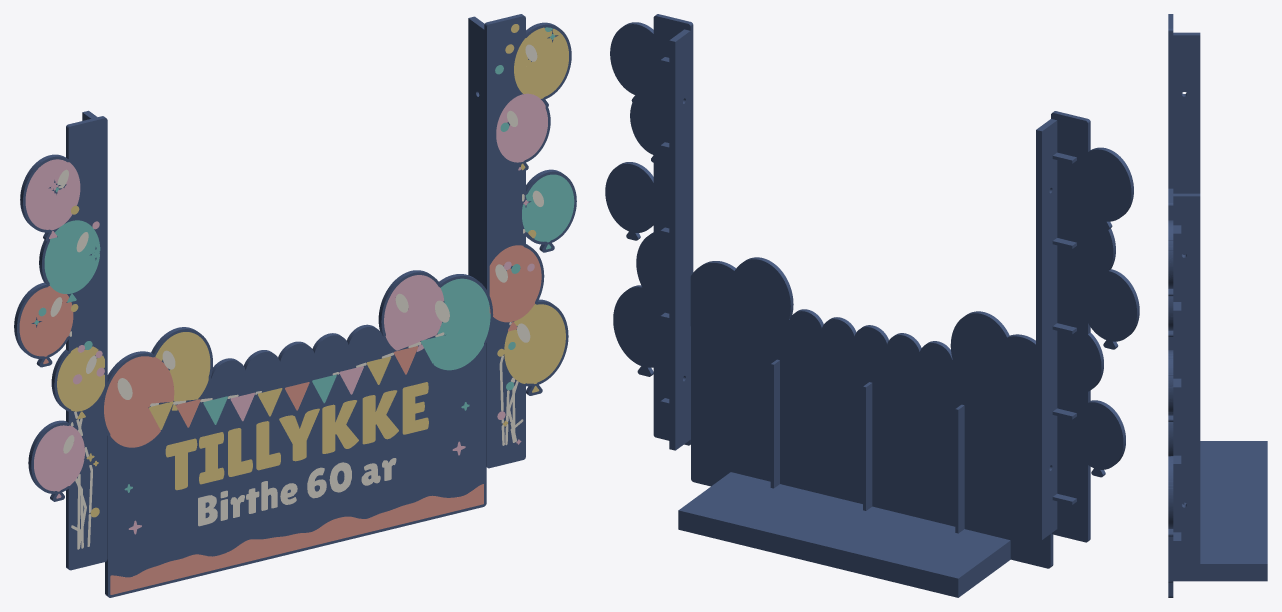
File: parts.glb
The picture shows the model from 3 angles, left to right: view 1: azimuth 30°, elevation 25°; view 2: azimuth 150°, elevation 25°; view 3: azimuth 270°, elevation 25°; orthographic projection. The views are drawn at different scales.
Visible parts, largest first — view 1: topper__base, wing_right__base, wing_left__base, topper__coral, topper__gold, wing_right__gold, wing_left__pink, topper__teal, topper__cream, topper__pink, wing_left__teal, wing_right__coral (+6 smaller); view 2: topper__base, wing_left__base, wing_right__base; view 3: wing_right__base, topper__base, wing_left__base.
Part boxes in pixels (x1,y1,x2,y2): topper__base: (101, 270, 493, 597); wing_right__base: (468, 14, 576, 468); wing_left__base: (14, 110, 107, 570); topper__coral: (104, 346, 483, 594); topper__gold: (149, 332, 428, 490); wing_right__gold: (497, 24, 568, 426); wing_left__pink: (25, 159, 104, 498); topper__teal: (124, 278, 490, 492); topper__cream: (117, 293, 449, 526); topper__pink: (128, 275, 465, 534); wing_left__teal: (34, 187, 100, 349); wing_right__coral: (489, 245, 541, 331); topper__base: (678, 257, 1053, 597); wing_left__base: (1036, 111, 1139, 542); wing_right__base: (605, 14, 693, 450); wing_right__base: (1168, 188, 1200, 582); topper__base: (1168, 441, 1267, 597); wing_left__base: (1168, 14, 1200, 254).
Bounding box in the file's own units: 346 × 284 × 62.01.
